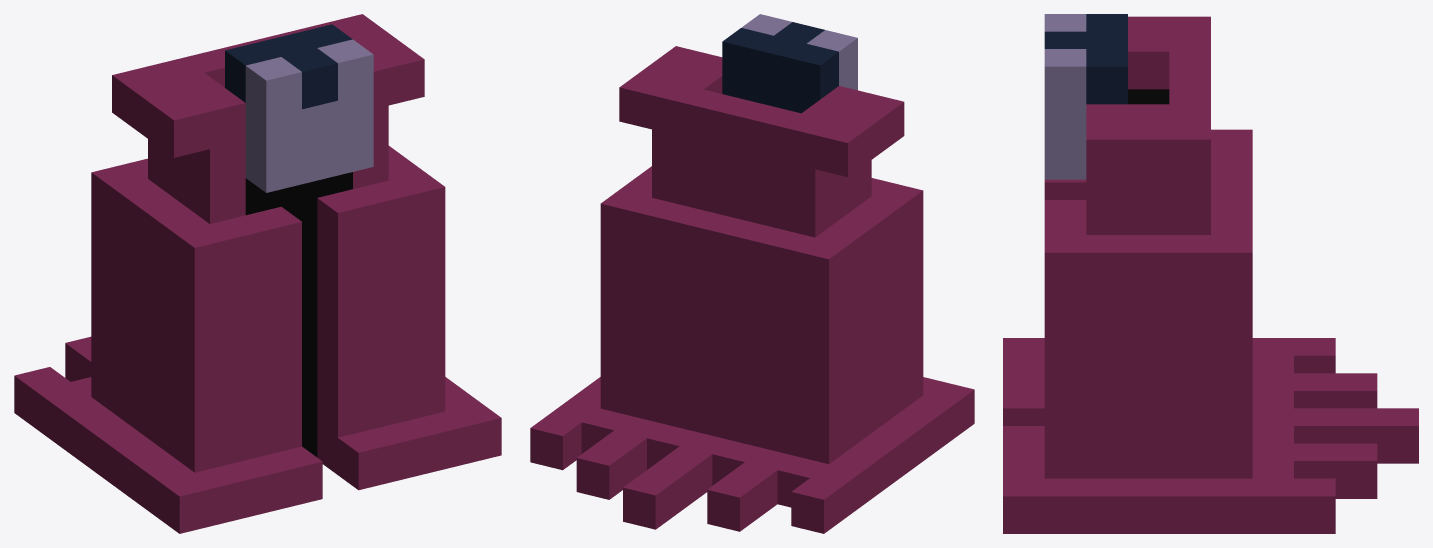
Rendered from vampire.obj.
3 renders of one model, left to right at view 1: azimuth 30°, elevation 25°; view 2: azimuth 150°, elevation 25°; view 3: azimuth 270°, elevation 25°, orthographic. The views are drawn at different scales.
Size of the model in its own units: 0.9 by 1.1 by 1.
Materials: 1 (1 with a texture image).
